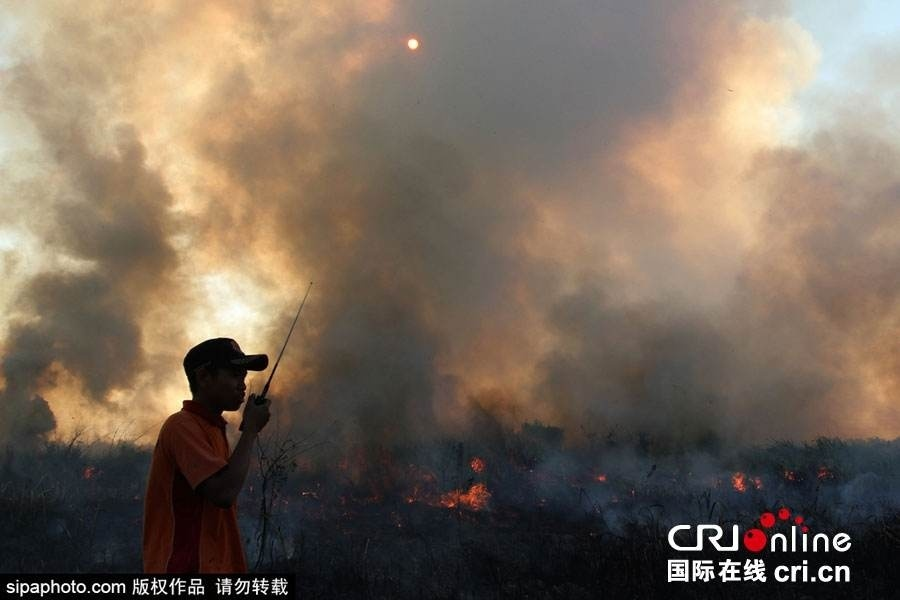fire: (411, 451, 496, 514), (728, 467, 763, 492)
